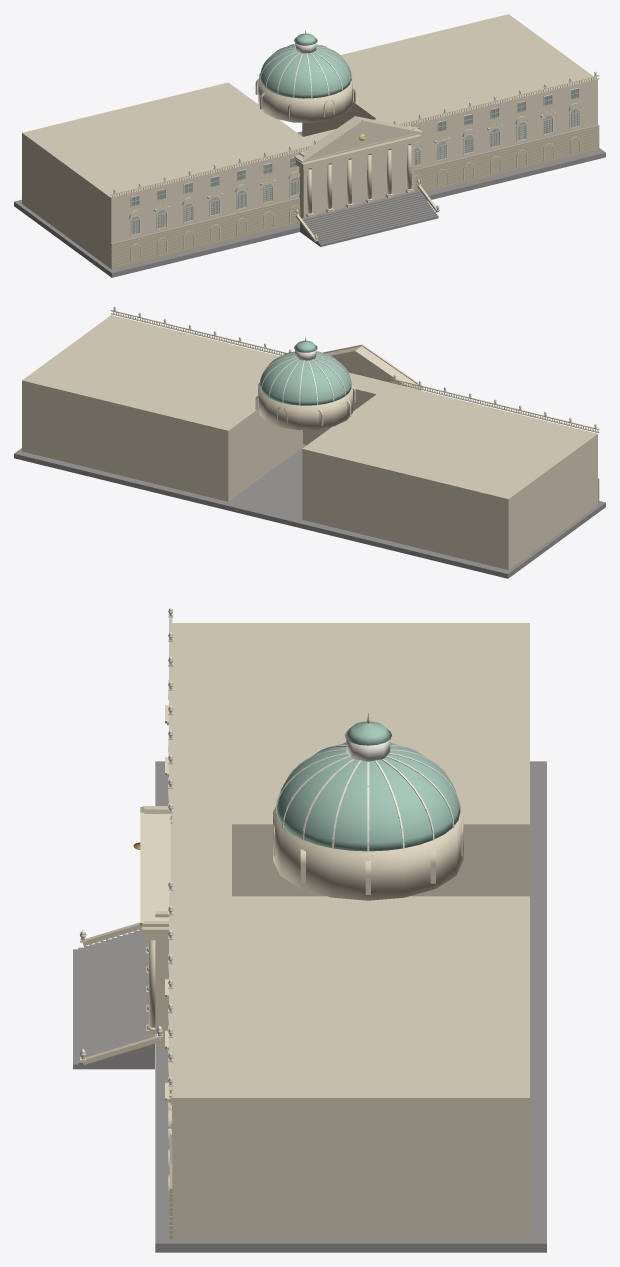
The model's file is old-parliament.glb.
The picture shows the model from 3 angles, top to bottom: view 1: azimuth 30°, elevation 25°; view 2: azimuth 150°, elevation 25°; view 3: azimuth 270°, elevation 25°; orthographic projection. The views are drawn at different scales.
Parts seen in each view (by area): view 1: 04 Attic story and balustraded roof parapet / Sandstone, 03 Piano nobile and classical colonnade / Sandstone, 02 Ground floor rusticated ashlar wings / Sandstone Dark, 05 Monumental Ionic portico / Sandstone, 01 Rusticated granite podium and monumental stair / Granite , 02 Ground floor rusticated ashlar wings / Sandstone, 06 Central octagonal drum and ribbed dome / Dome Copper, 06 Central octagonal drum and ribbed dome / Sandstone, 03 Piano nobile and classical colonnade / Glass shade, 05 Monumental Ionic portico / Sandstone.001, 03 Piano nobile and classical colonnade / Ivory, 03 Piano nobile and classical colonnade / Ivory.001 (+4 smaller); view 2: 04 Attic story and balustraded roof parapet / Sandstone, 03 Piano nobile and classical colonnade / Sandstone, 02 Ground floor rusticated ashlar wings / Sandstone, 01 Rusticated granite podium and monumental stair / Granite , 06 Central octagonal drum and ribbed dome / Dome Copper, 05 Monumental Ionic portico / Sandstone, 06 Central octagonal drum and ribbed dome / Sandstone, 06 Central octagonal drum and ribbed dome / Ivory, 04 Attic story and balustraded roof parapet / Sandstone.001; view 3: 04 Attic story and balustraded roof parapet / Sandstone, 03 Piano nobile and classical colonnade / Sandstone, 01 Rusticated granite podium and monumental stair / Granite , 02 Ground floor rusticated ashlar wings / Sandstone, 06 Central octagonal drum and ribbed dome / Dome Copper, 05 Monumental Ionic portico / Sandstone, 06 Central octagonal drum and ribbed dome / Sandstone, 06 Central octagonal drum and ribbed dome / Ivory, 01 Rusticated granite podium and monumental stair / Sandston.
Boxes of the visible parts, box(x1,y1,x2,y2) form: 04 Attic story and balustraded roof parapet / Sandstone: box(22, 14, 599, 213); 03 Piano nobile and classical colonnade / Sandstone: box(22, 95, 597, 242); 02 Ground floor rusticated ashlar wings / Sandstone Dark: box(111, 124, 599, 269); 05 Monumental Ionic portico / Sandstone: box(285, 115, 422, 218); 01 Rusticated granite podium and monumental stair / Granite : box(14, 131, 605, 277); 02 Ground floor rusticated ashlar wings / Sandstone: box(22, 122, 597, 268); 06 Central octagonal drum and ribbed dome / Dome Copper: box(260, 33, 351, 98); 06 Central octagonal drum and ribbed dome / Sandstone: box(258, 74, 352, 122); 03 Piano nobile and classical colonnade / Glass shade: box(131, 109, 578, 234); 05 Monumental Ionic portico / Sandstone.001: box(306, 134, 412, 215); 03 Piano nobile and classical colonnade / Ivory: box(130, 109, 579, 235); 03 Piano nobile and classical colonnade / Ivory.001: box(131, 109, 578, 234); 04 Attic story and balustraded roof parapet / Sandstone: box(22, 310, 599, 514); 03 Piano nobile and classical colonnade / Sandstone: box(22, 396, 597, 543); 02 Ground floor rusticated ashlar wings / Sandstone: box(22, 425, 597, 569); 01 Rusticated granite podium and monumental stair / Granite : box(14, 445, 605, 578); 06 Central octagonal drum and ribbed dome / Dome Copper: box(260, 340, 351, 405); 05 Monumental Ionic portico / Sandstone: box(303, 344, 422, 444); 06 Central octagonal drum and ribbed dome / Sandstone: box(258, 381, 352, 430); 06 Central octagonal drum and ribbed dome / Ivory: box(259, 351, 351, 405); 04 Attic story and balustraded roof parapet / Sandstone.001: box(113, 312, 598, 431); 04 Attic story and balustraded roof parapet / Sandstone: box(169, 617, 529, 1128); 03 Piano nobile and classical colonnade / Sandstone: box(165, 680, 529, 1187); 01 Rusticated granite podium and monumental stair / Granite : box(73, 761, 546, 1252); 02 Ground floor rusticated ashlar wings / Sandstone: box(168, 751, 529, 1239); 06 Central octagonal drum and ribbed dome / Dome Copper: box(276, 721, 459, 851); 05 Monumental Ionic portico / Sandstone: box(140, 806, 231, 1050); 06 Central octagonal drum and ribbed dome / Sandstone: box(273, 806, 463, 900); 06 Central octagonal drum and ribbed dome / Ivory: box(275, 742, 461, 851); 01 Rusticated granite podium and monumental stair / Sandston: box(83, 922, 160, 1064).
Size of the model in its own units: 134 by 38.84 by 55.7.
